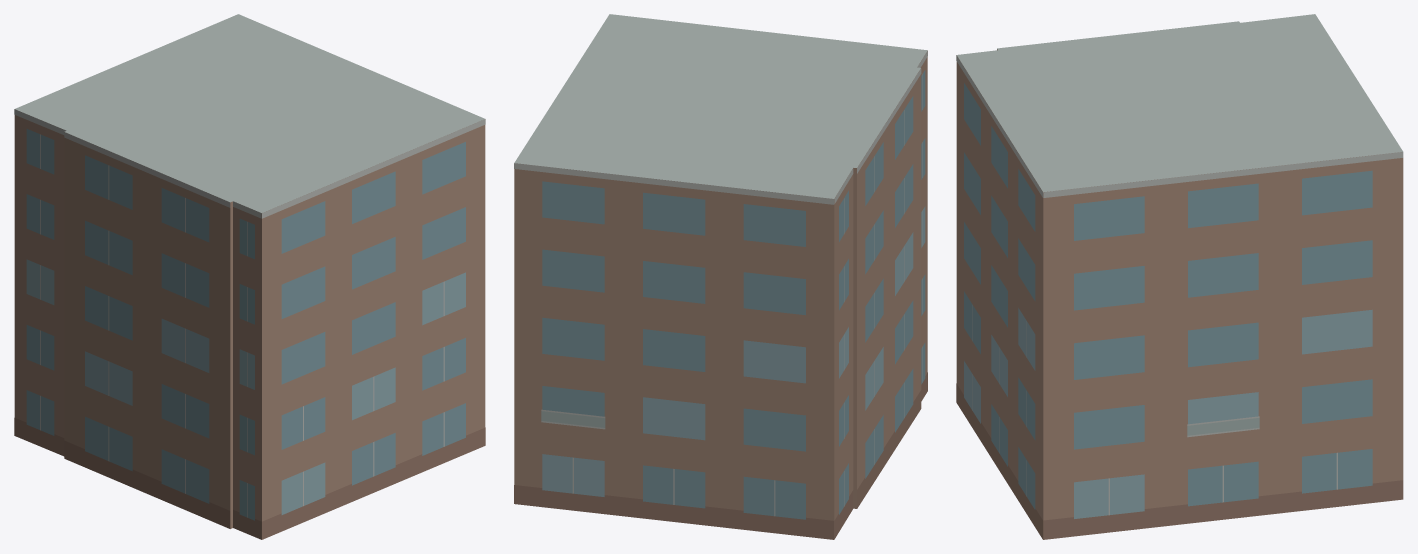
The model's file is survey-upis-32713745.glb.
The picture shows the model from 3 angles, left to right: view 1: azimuth 30°, elevation 25°; view 2: azimuth 150°, elevation 25°; view 3: azimuth 270°, elevation 25°; orthographic projection. The views are drawn at different scales.
Visible parts, largest first — view 1: survey-upis-32713745.tmp; view 2: survey-upis-32713745.tmp; view 3: survey-upis-32713745.tmp.
Part boxes in pixels (left/top/right/bottom): survey-upis-32713745.tmp: left=14, top=14, right=485, bottom=539; survey-upis-32713745.tmp: left=514, top=14, right=927, bottom=539; survey-upis-32713745.tmp: left=956, top=14, right=1403, bottom=539.
Size of the model in its own units: 15.62 by 14.2 by 16.55.
